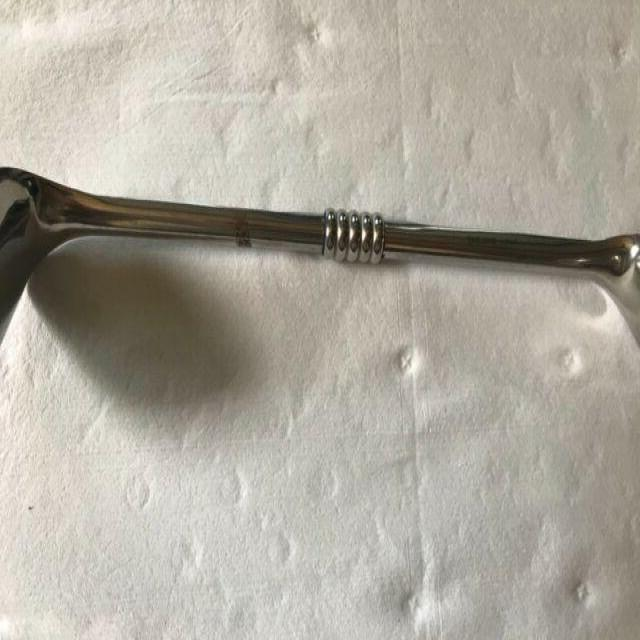Richardson: (0, 160, 639, 348)
